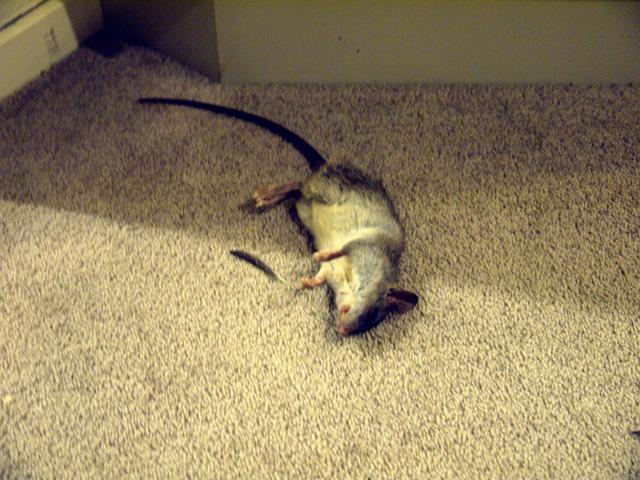mouse: (125, 115, 475, 345)
